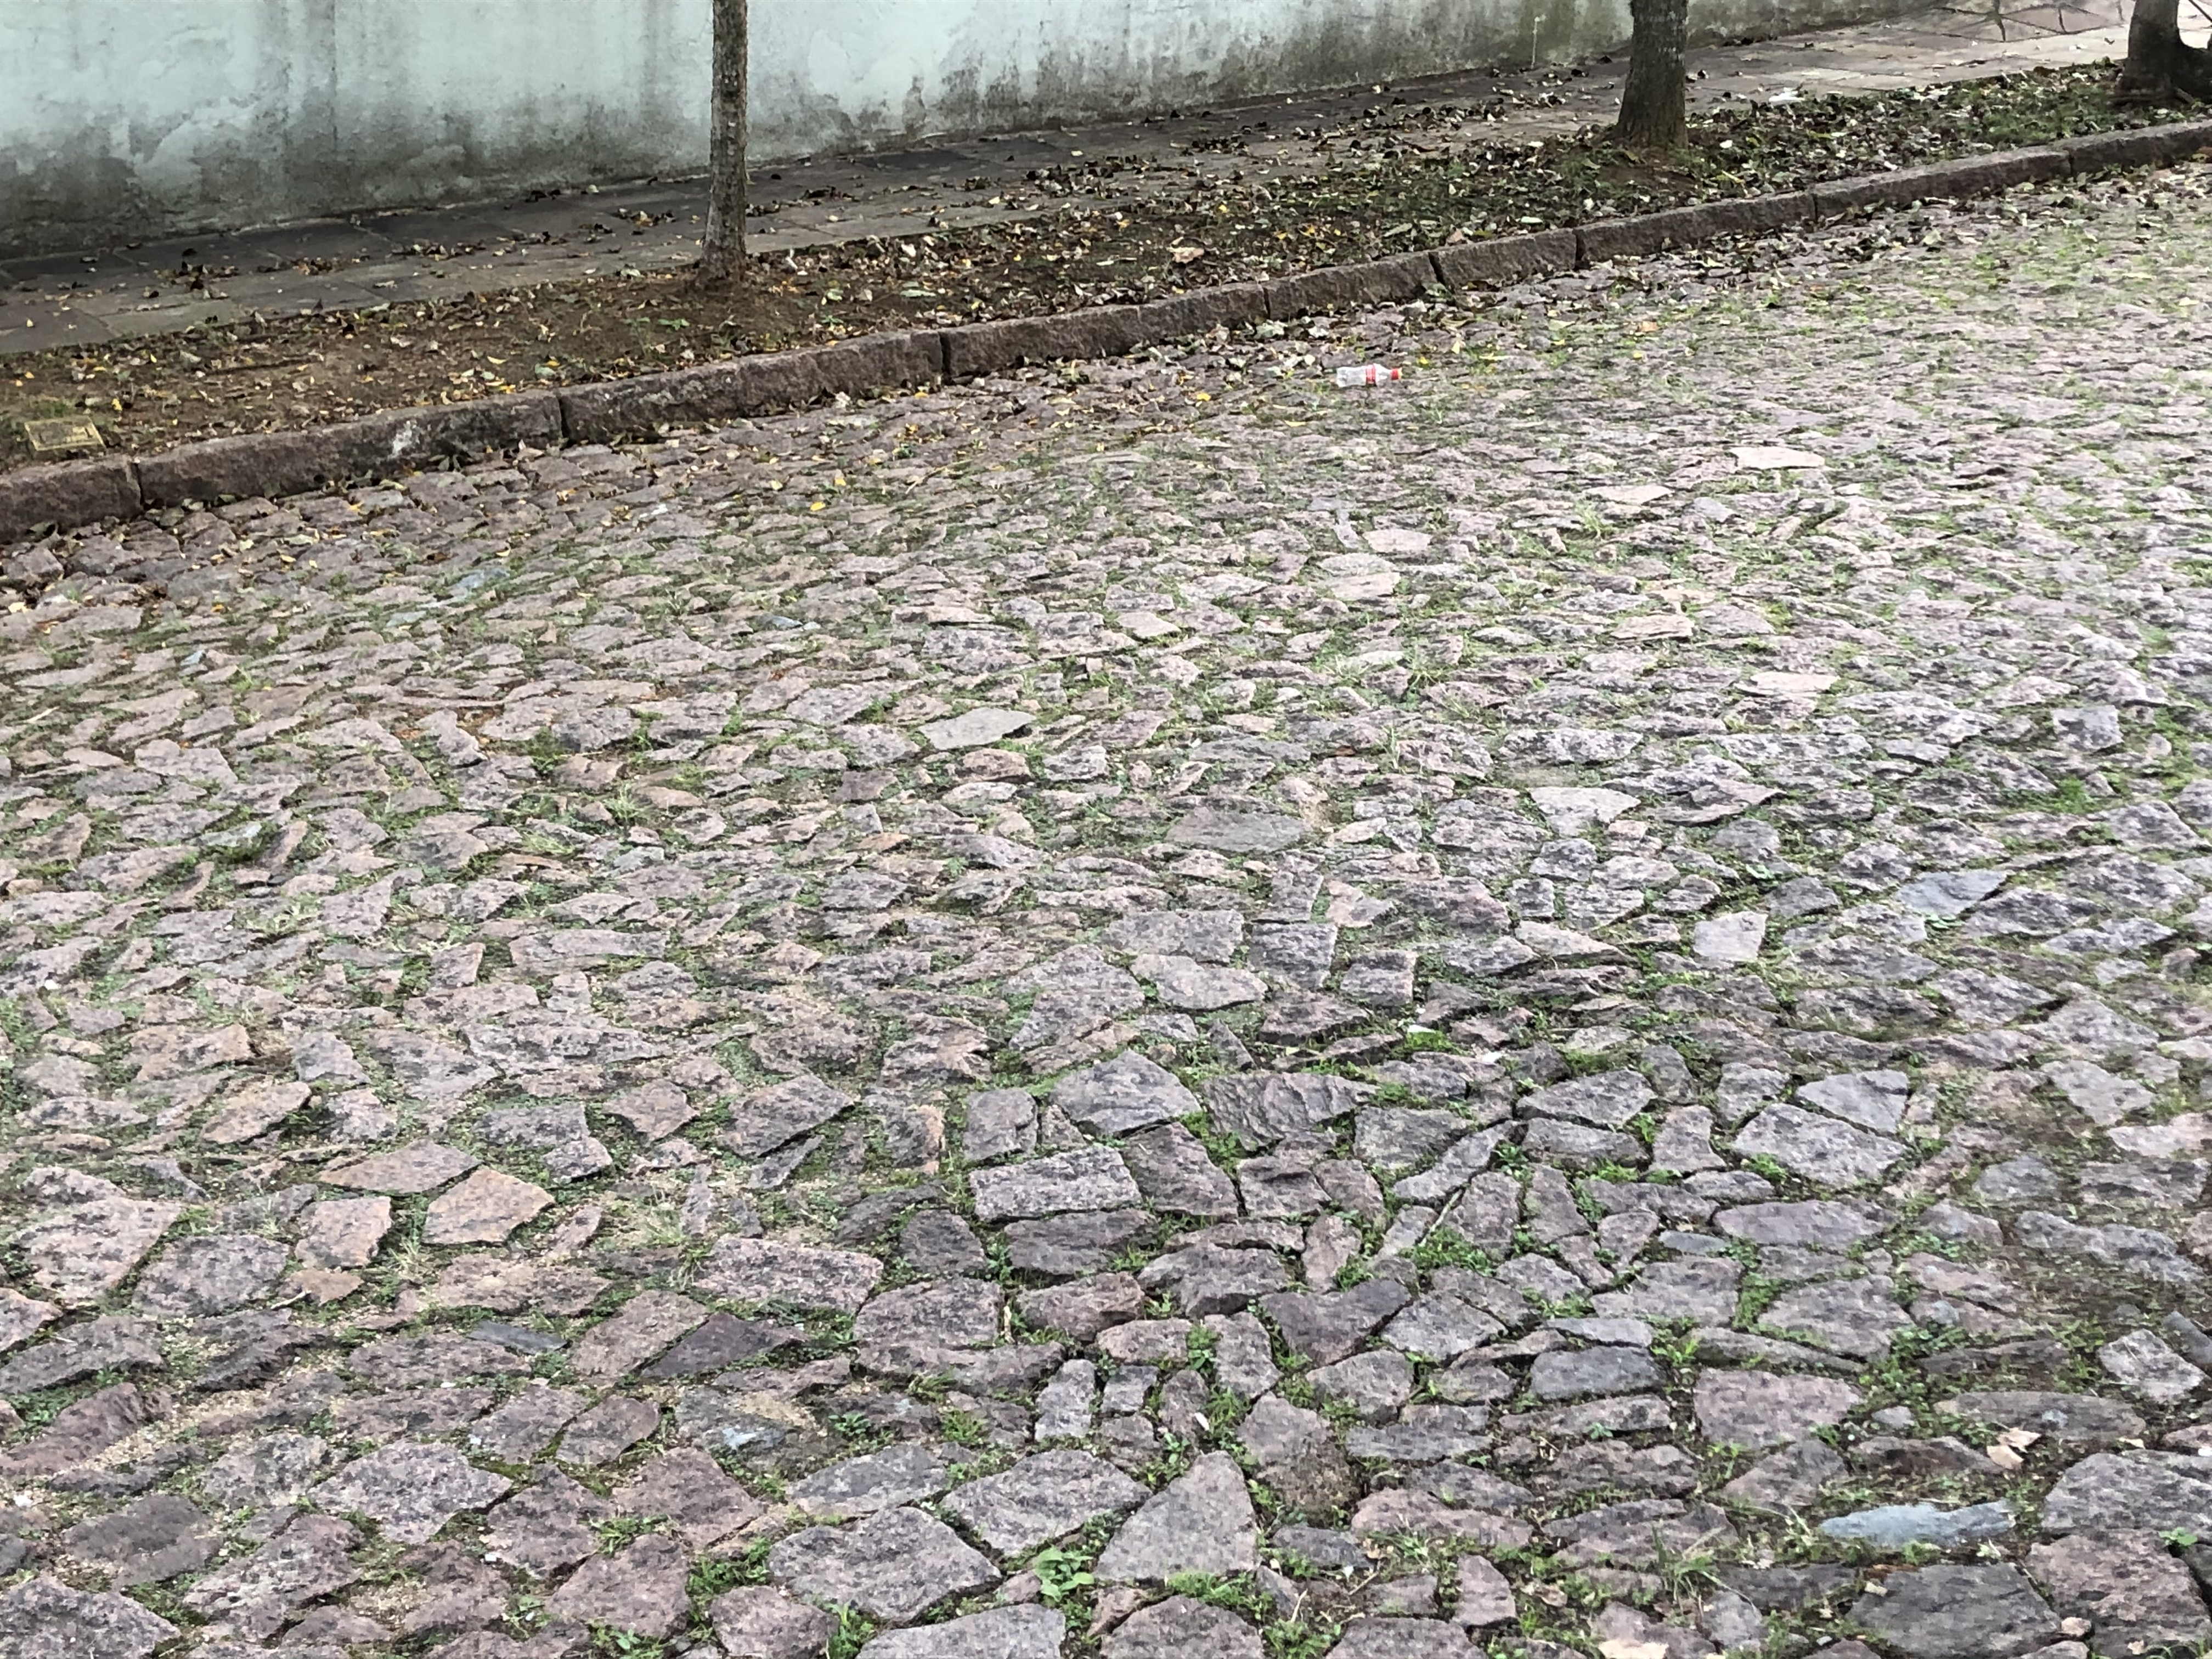vag23: (0, 10, 2198, 484)
